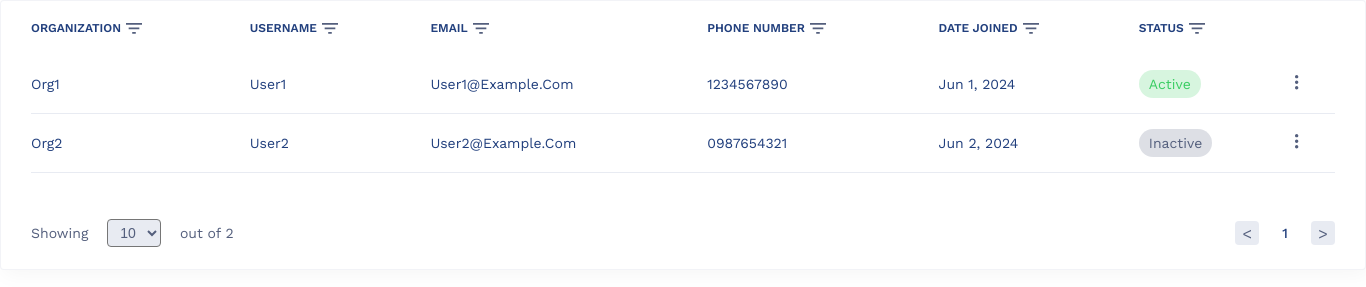
Test: UsersTable › opens options modal when more icon is clicked
Click the picture with alt text "more" in the row of "Org1".
click(1297, 82)  # box [1295, 75, 1299, 90]
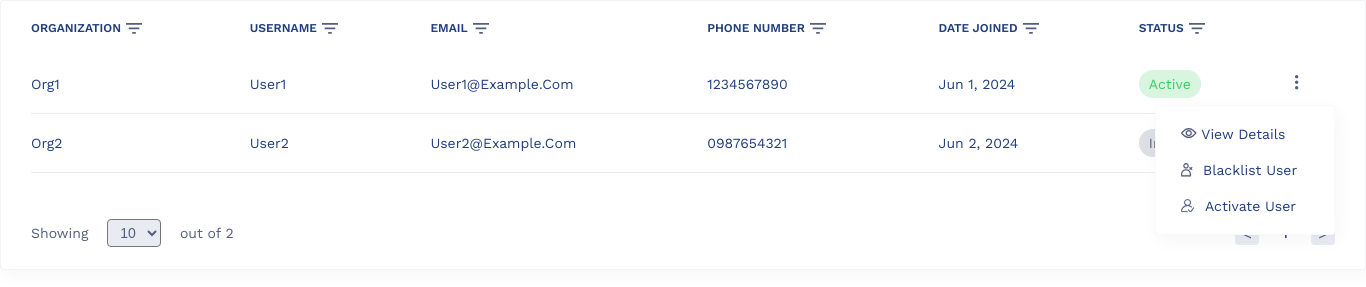
Expected: the text "View Details" is shown, [1201, 126, 1285, 142]
Expected: the text "Blacklist User" is shown, [1203, 162, 1297, 178]
Expected: the text "Activate User" is shown, [1205, 198, 1296, 214]
